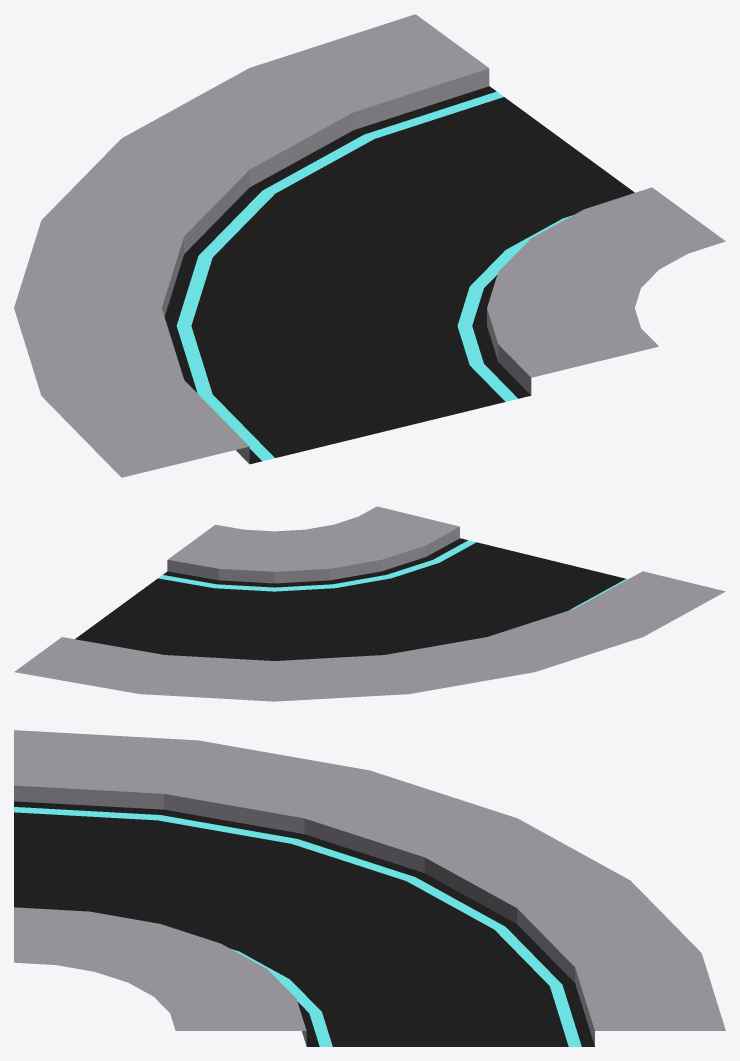
Rendered from 1-via-curva-3m.fbx.
3 views of the same model, one above another, from view 1: azimuth 30°, elevation 25°; view 2: azimuth 150°, elevation 25°; view 3: azimuth 270°, elevation 25° (orthographic). The views are drawn at different scales.
Parts seen in each view (by area): view 1: Model; view 2: Model; view 3: Model.
Boxes of the visible parts, <box> form: Model: <box>14,14,725,477</box>; Model: <box>14,506,725,701</box>; Model: <box>14,730,725,1046</box>.
Bounding box in the file's own units: 8.15 × 0.2 × 8.15.
